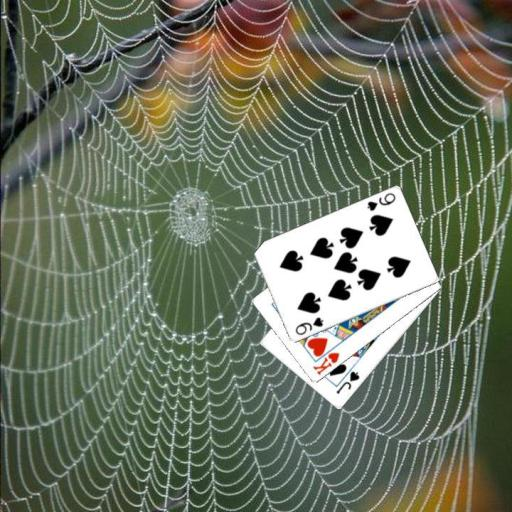9S: (292, 314, 325, 337), (364, 190, 397, 213)
JS: (333, 369, 361, 396)
KH: (310, 349, 341, 377)
